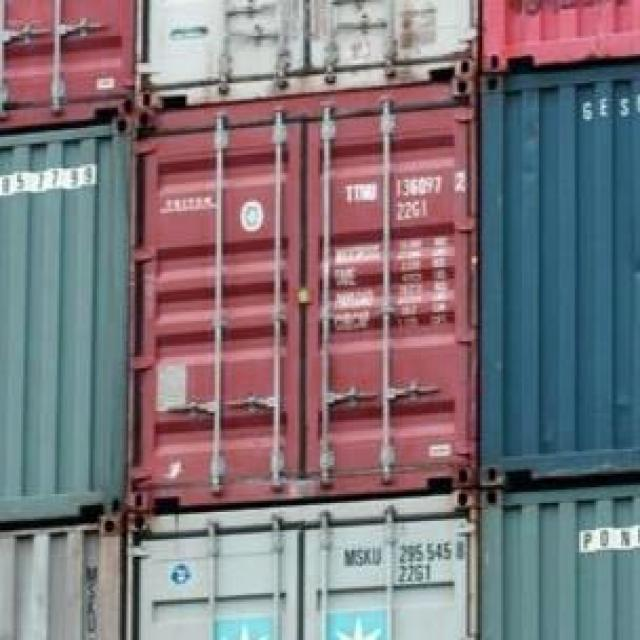ISO: (398, 202, 440, 222)
container_number: (340, 180, 475, 194)
